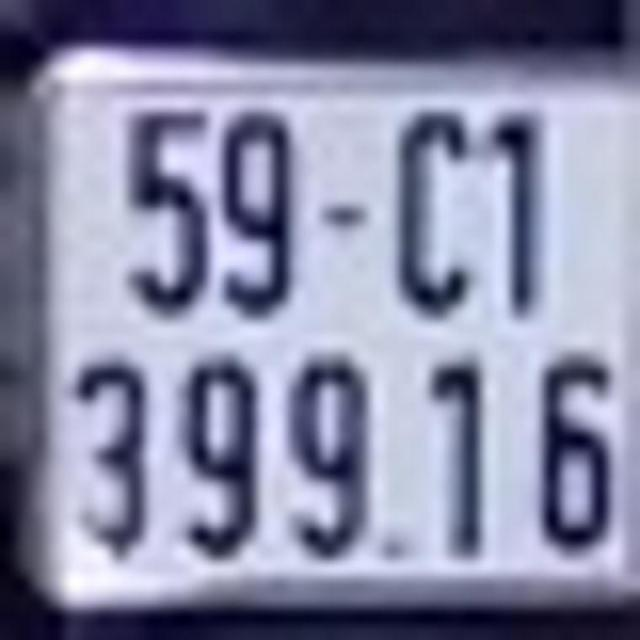1: (426, 356, 489, 559), (489, 110, 547, 324)
3: (66, 352, 155, 562)
5: (112, 100, 208, 318)
6: (533, 342, 621, 548)
9: (282, 348, 370, 567), (217, 99, 299, 328), (177, 355, 261, 559)
C: (384, 97, 484, 322)
